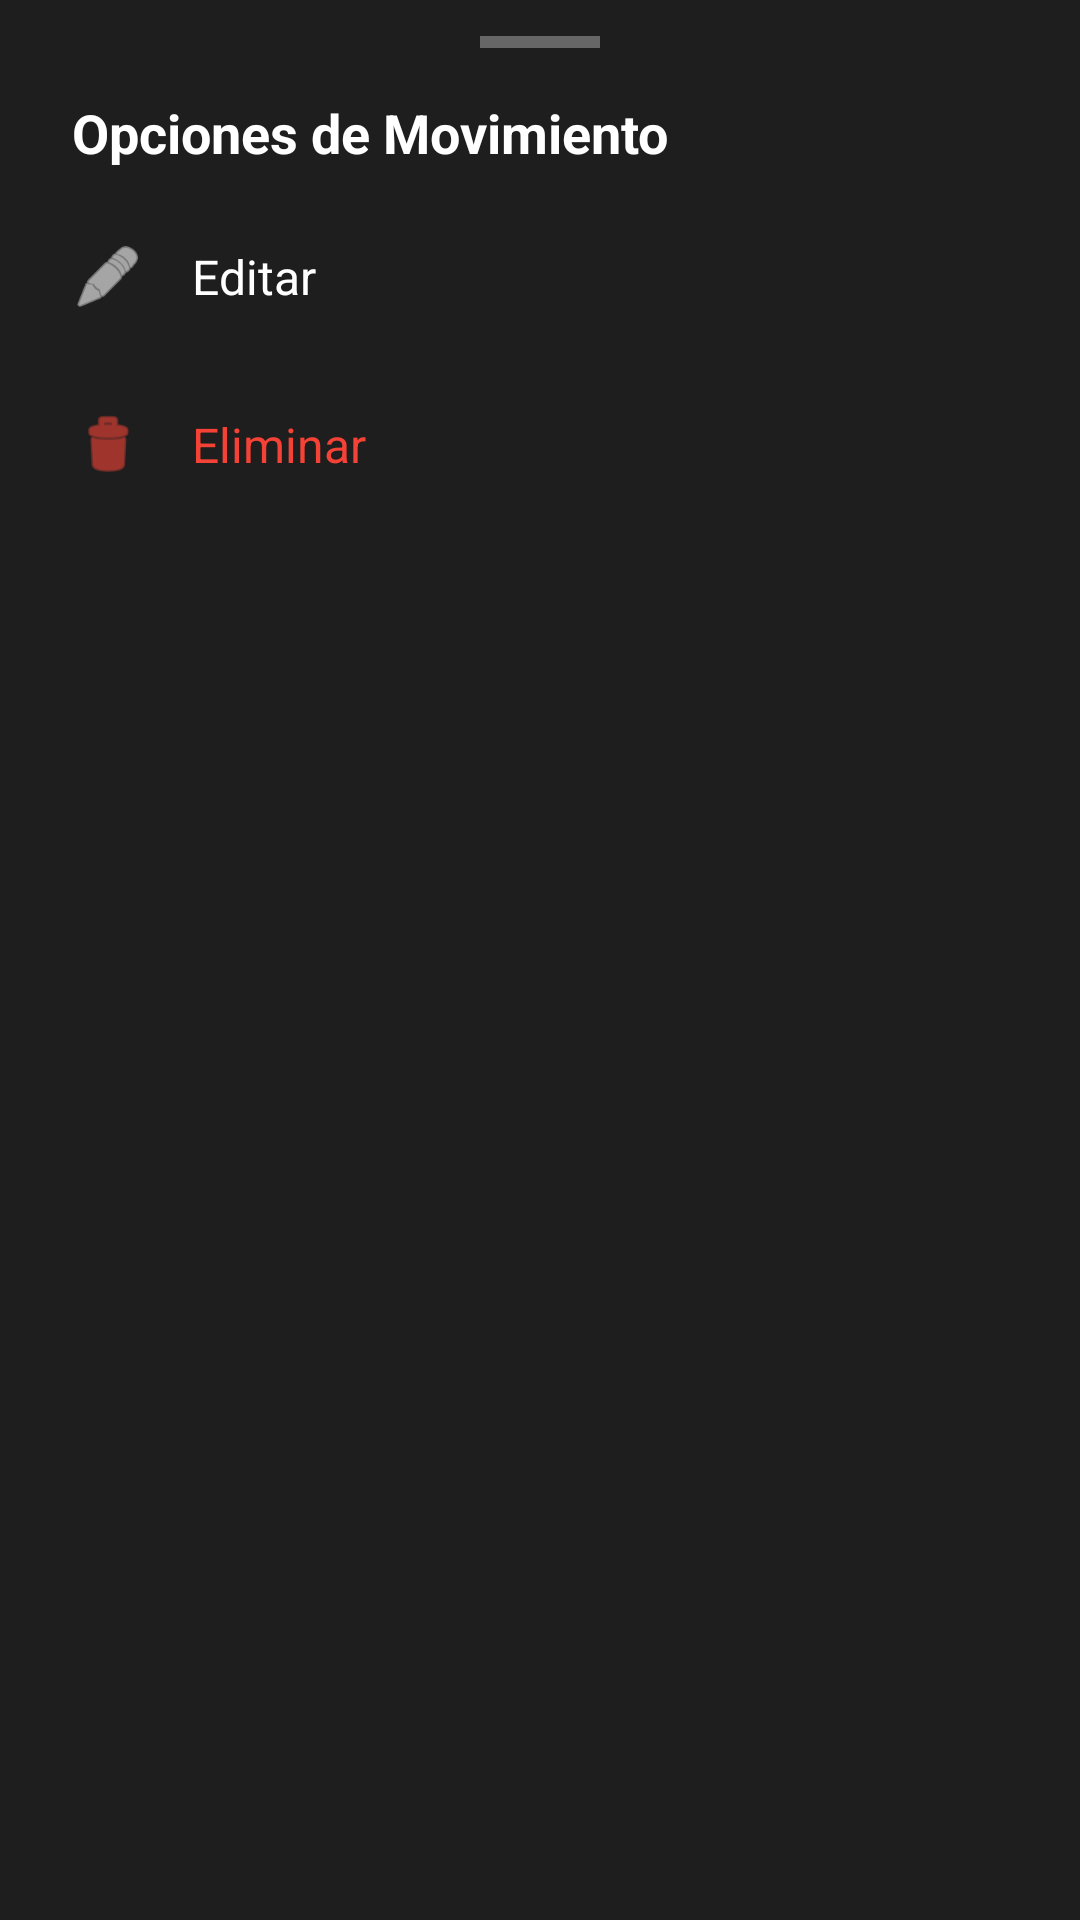

Icons on this 1080×1920 Android screen, each with its box as detection(x1, y1, x2, y2):
delete: detection(88, 416, 129, 472)
